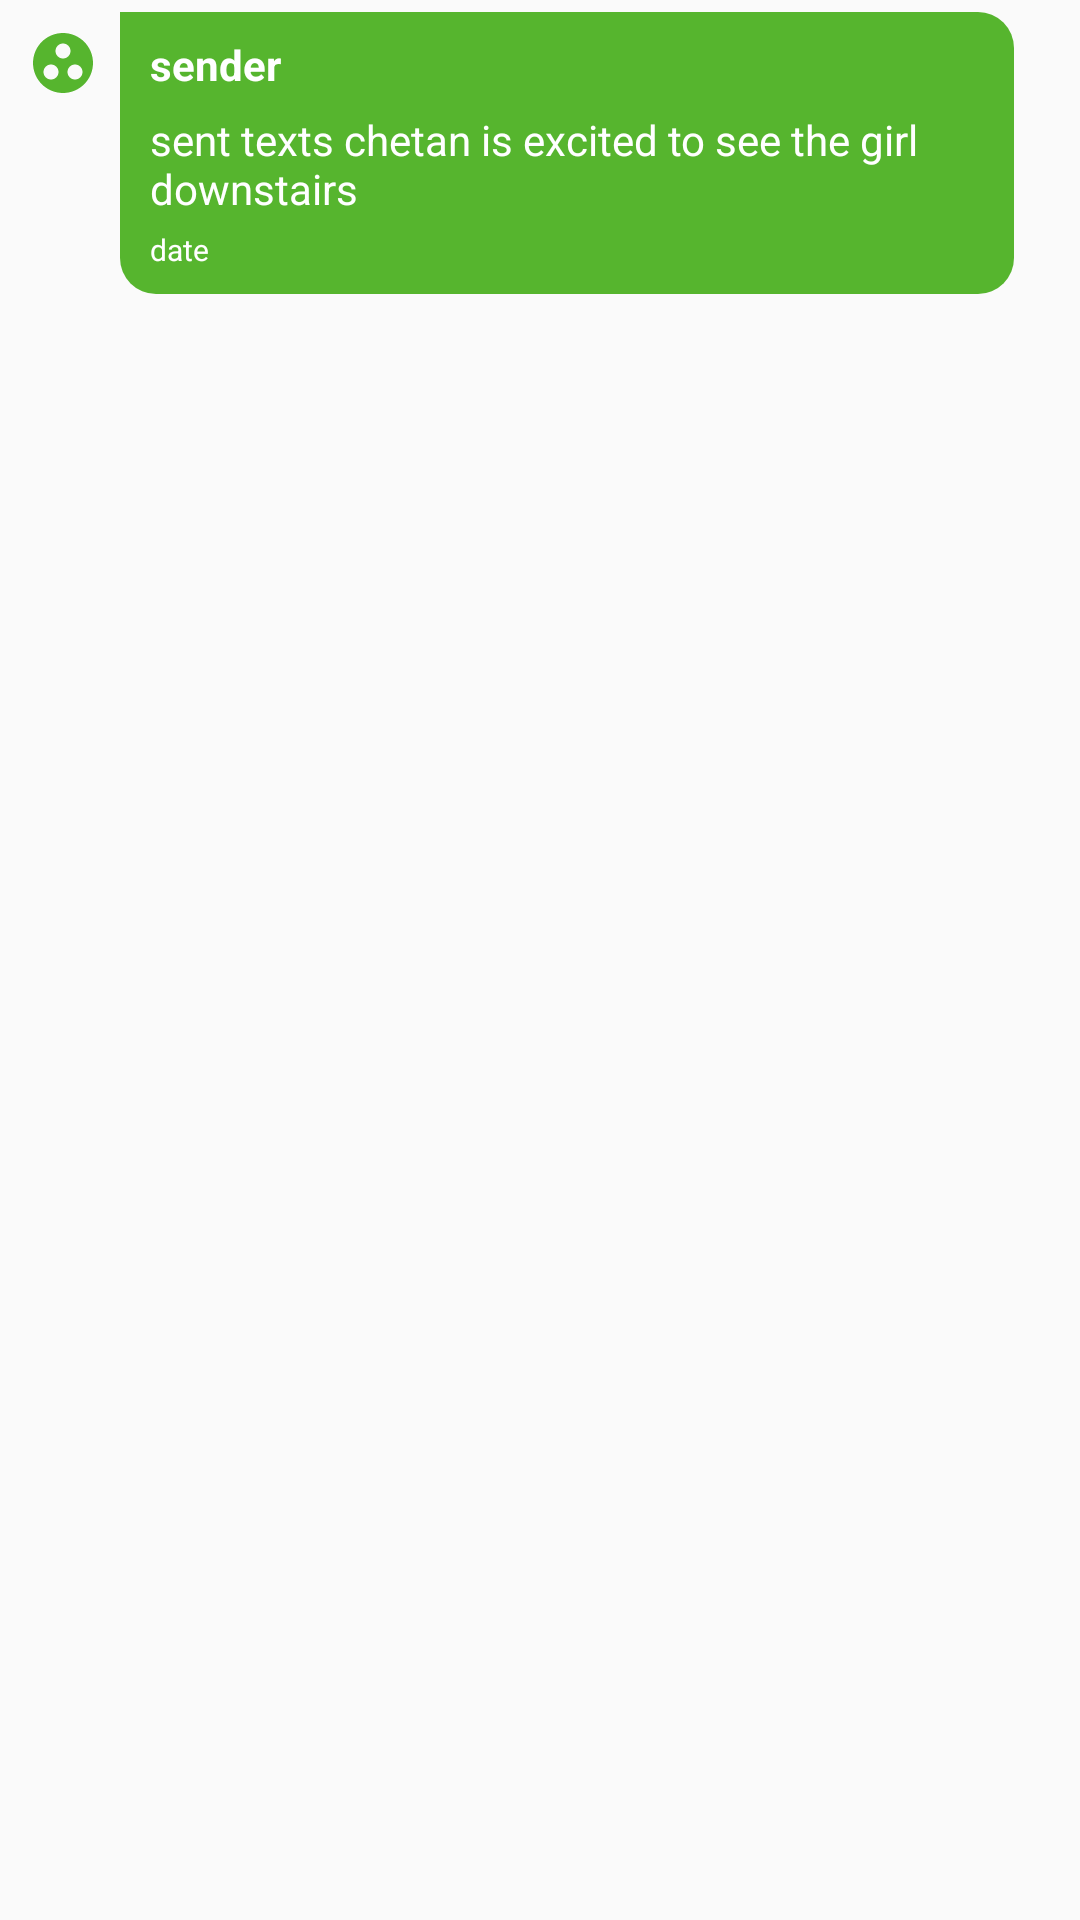

Screen size 1080 x 1920. Icon name, then its box in pixels as (x1, y1, x2, y2):
group work 24f: (33, 33, 93, 93)
